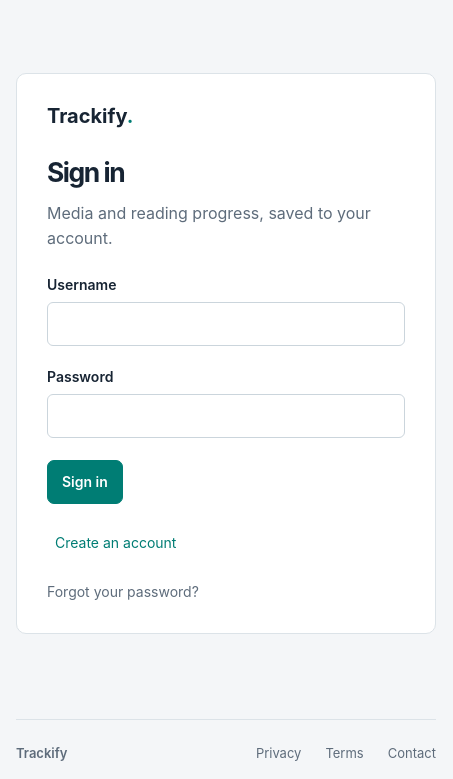
public signup limits leave the form available to retry
The width and height of the screenshot is (453, 779).
Click the button "Create an account" at (116, 542), box [47, 524, 184, 561]
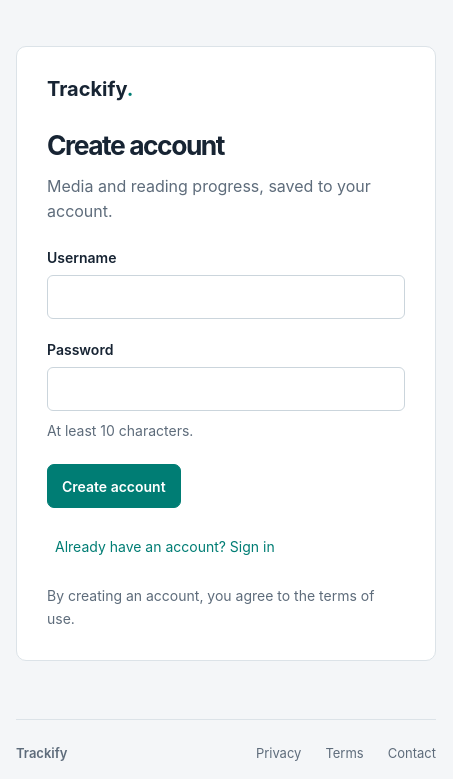
Type "alice" into the field labelled "Username" at (226, 297), box [47, 275, 405, 319]
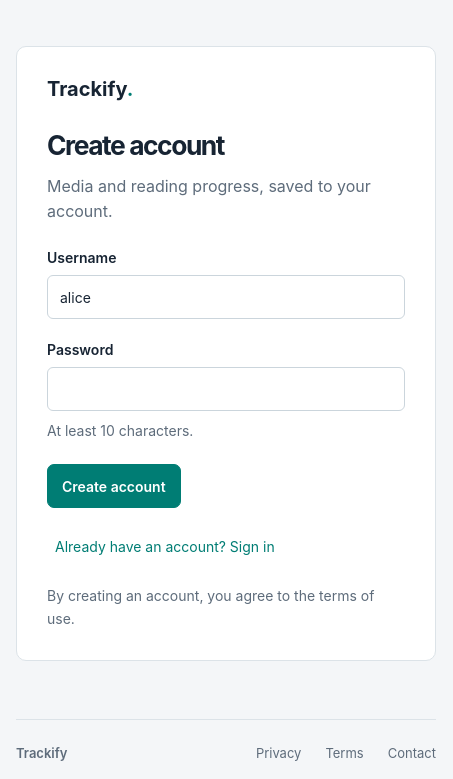
Type "not-a-real-password" into the password field labelled "Password At least 10 characters." at (226, 389), box [47, 367, 405, 411]
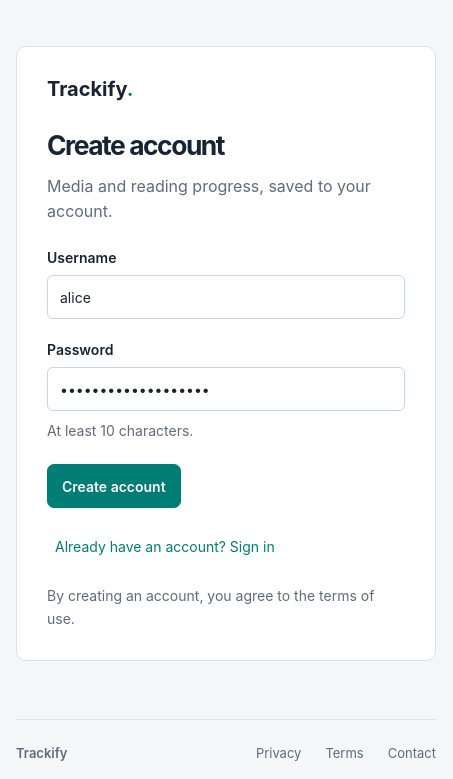
Click the button "Create account" at (114, 486), box [47, 464, 181, 508]
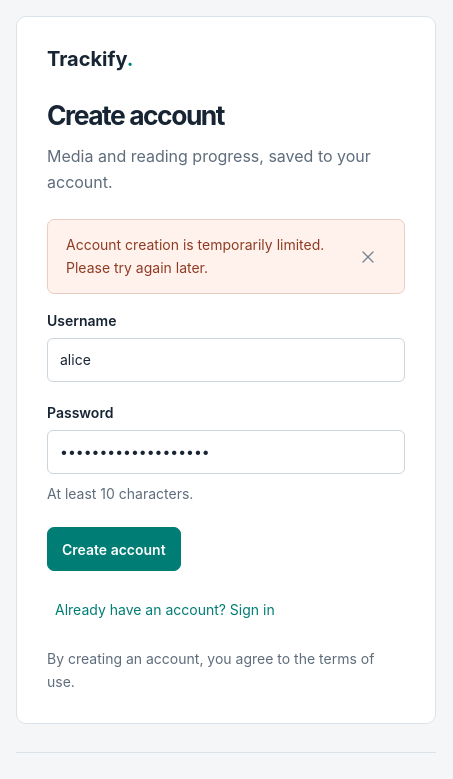
Check: the button "Create account" is enabled, box [47, 527, 181, 571]
Check: the text "Account creation is temporarily limited" is shown, box [66, 236, 324, 276]
